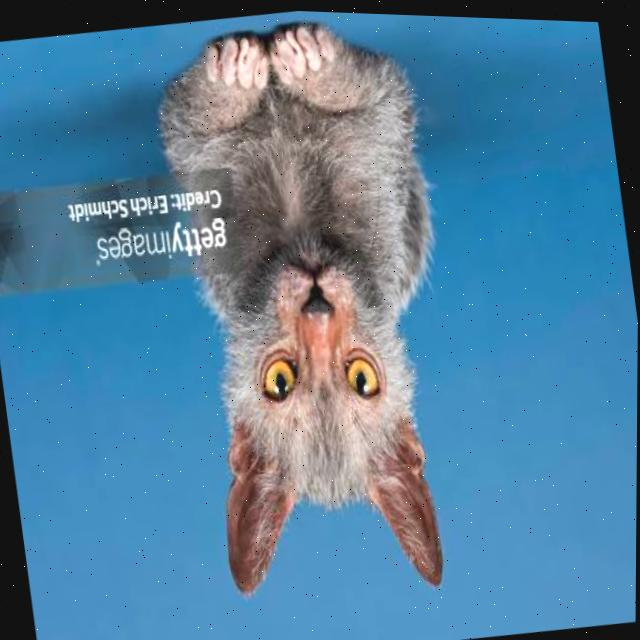Lykoi: (136, 4, 491, 624)
